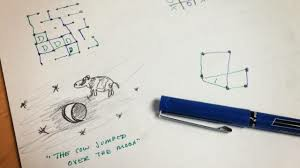pen: (157, 96, 300, 136)
